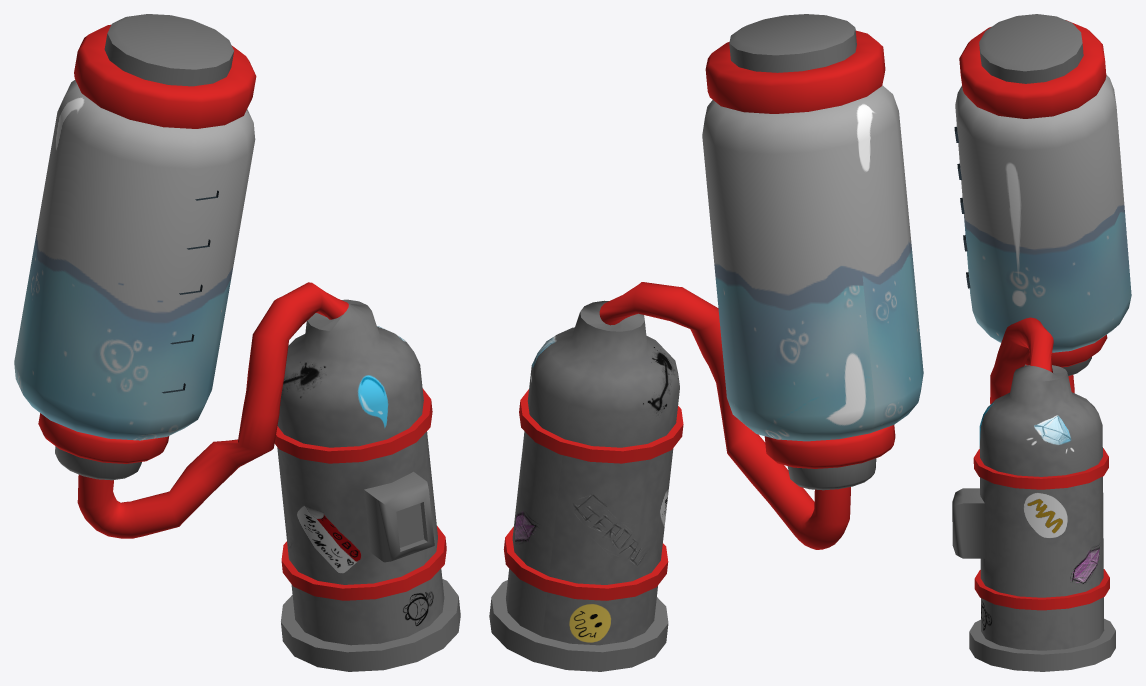
File: WaterSprayBase.fbx
3 views of the same model, side by side, from view 1: azimuth 30°, elevation 25°; view 2: azimuth 150°, elevation 25°; view 3: azimuth 270°, elevation 25° (orthographic). The views are drawn at different scales.
Parts seen in each view (by area): view 1: Tanque; view 2: Tanque; view 3: Tanque.
Boxes of the visible parts, x1,y1,x2,y2 form: Tanque: (14, 14, 460, 671); Tanque: (489, 14, 923, 671); Tanque: (952, 14, 1131, 671).
Size of the model in its own units: 158 by 241 by 72.54.
